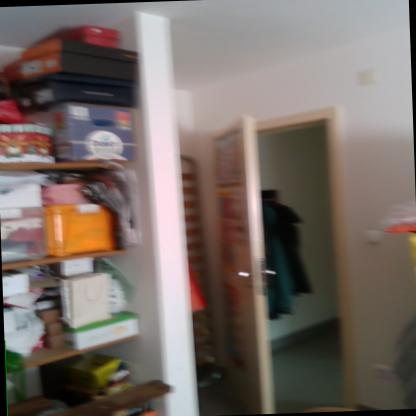semi: (201, 104, 379, 415)
